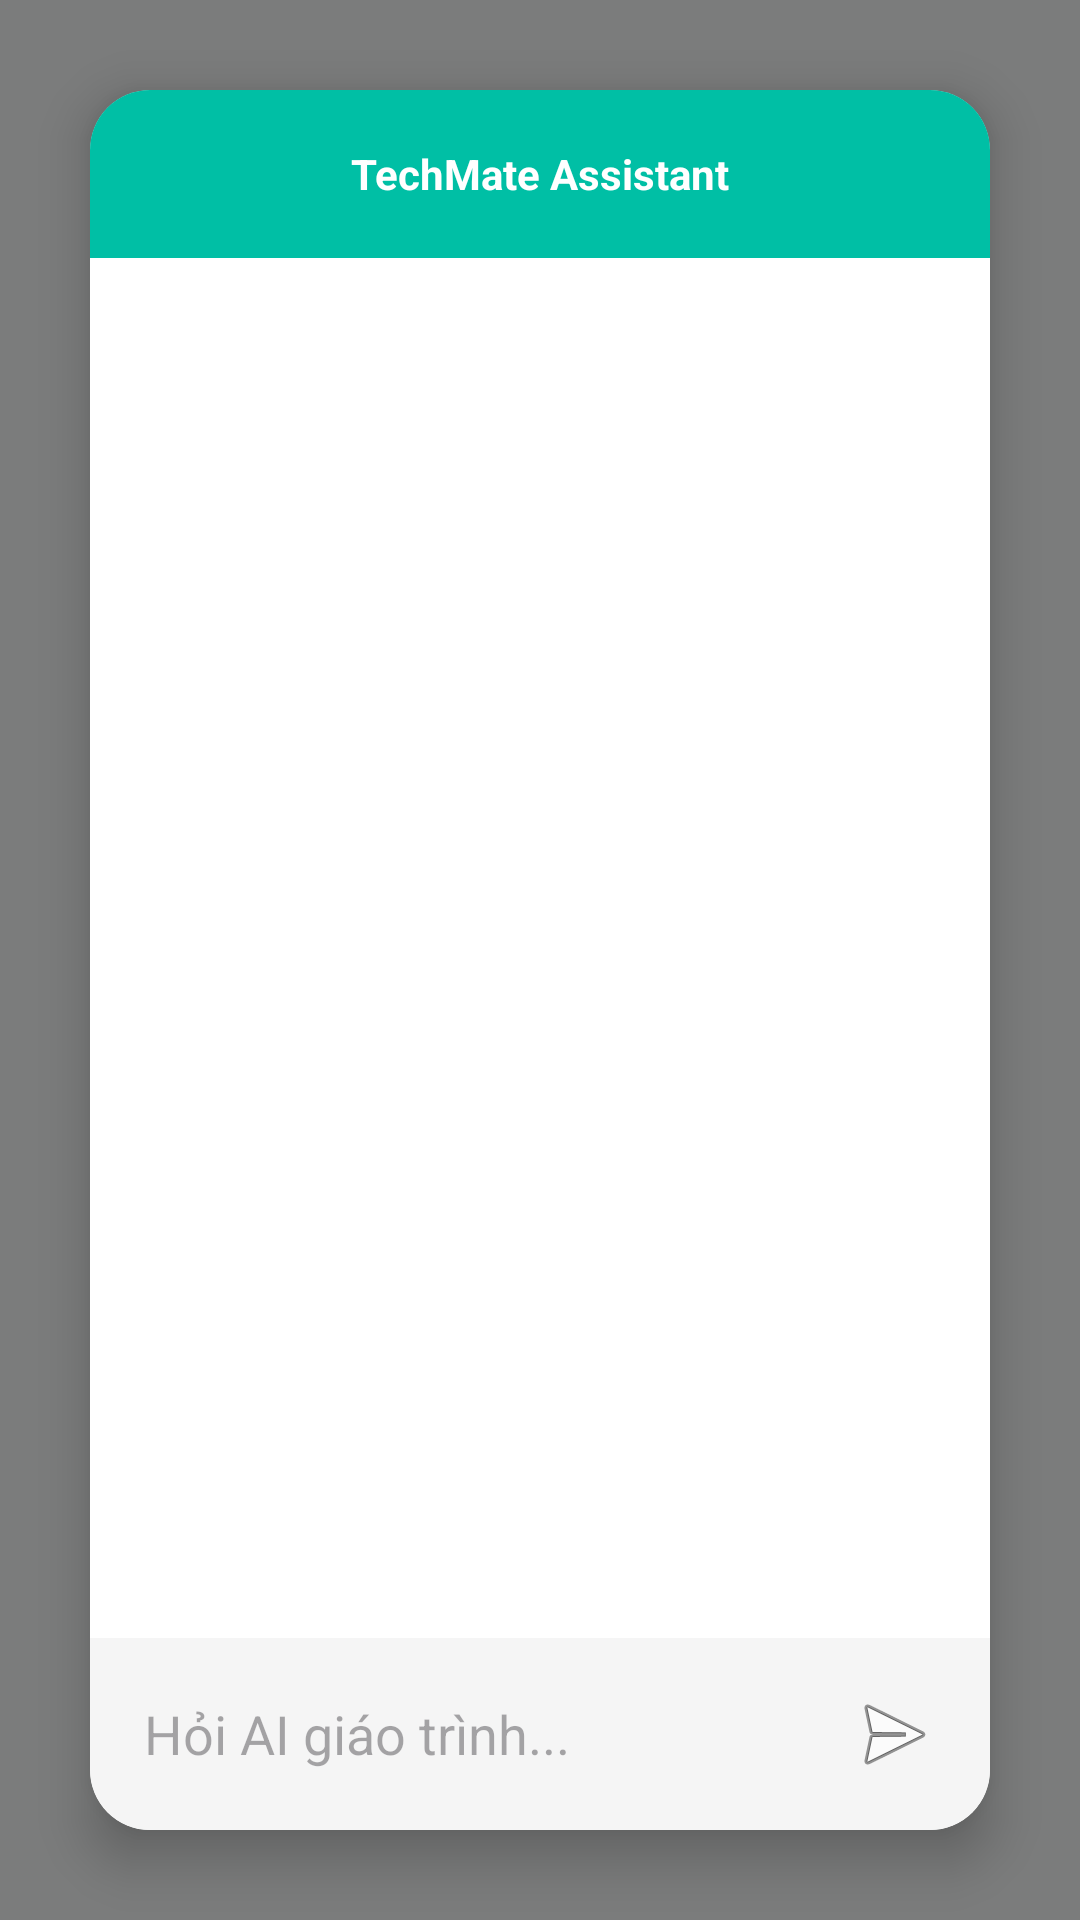

Screen size 1080×1920. Icon name, then its box in pixels as (x1, y1, x2, y2):
send: (864, 1704, 926, 1765)
